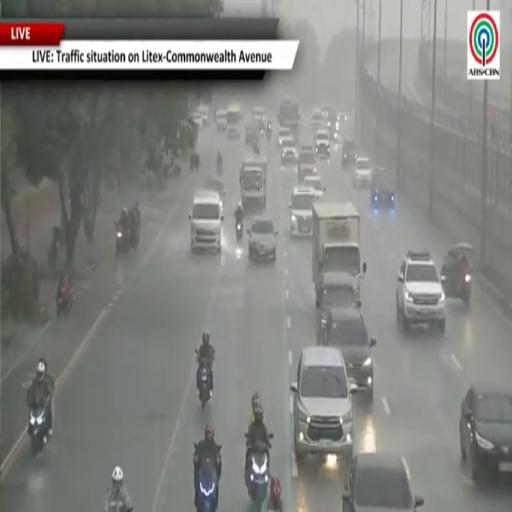car: (291, 346, 357, 461), (460, 383, 511, 479), (324, 307, 376, 399), (342, 453, 423, 511), (396, 251, 446, 332), (317, 275, 361, 344), (189, 190, 223, 252), (289, 186, 315, 236), (248, 217, 277, 261), (370, 167, 395, 209), (203, 176, 226, 207), (298, 146, 316, 183), (354, 157, 373, 187), (303, 175, 325, 200), (281, 137, 297, 166), (315, 129, 330, 159), (342, 138, 357, 168), (327, 108, 340, 142), (245, 122, 259, 146), (277, 126, 293, 147), (311, 108, 324, 127), (216, 110, 227, 132), (198, 104, 209, 125), (321, 105, 335, 121), (227, 125, 240, 140), (254, 106, 266, 122), (192, 111, 203, 126)
motorcycle: (441, 244, 473, 307), (246, 443, 270, 506), (195, 458, 218, 511), (441, 270, 472, 307), (28, 404, 50, 456), (196, 350, 212, 409), (48, 227, 61, 269), (57, 286, 73, 316), (115, 222, 130, 254), (48, 238, 58, 268), (236, 220, 243, 242), (265, 122, 271, 141), (216, 160, 223, 175), (266, 130, 271, 141)
truck: (312, 203, 366, 306), (240, 155, 267, 206), (278, 99, 300, 135), (227, 104, 241, 139)
